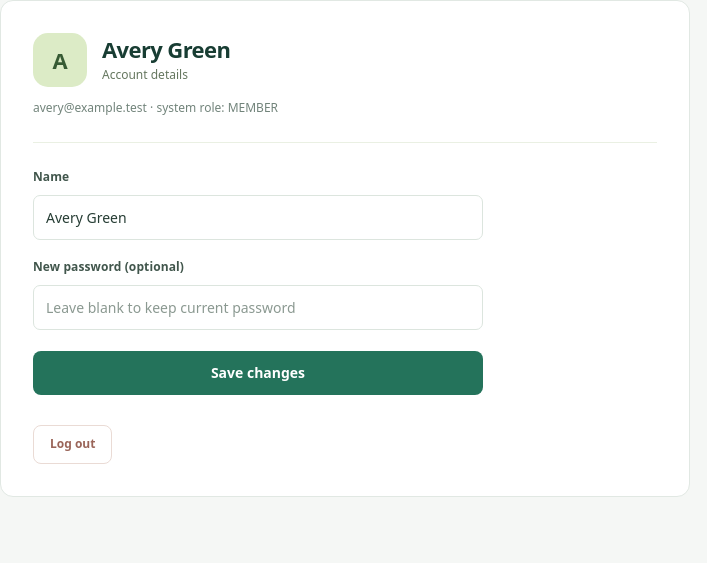
Test: ProfileView › saves a name without sending a blank optional password
Replace the text in the field labelled "Name" with "Updated" at {"x": 258, "y": 218}, box left=33, top=195, right=483, bottom=240
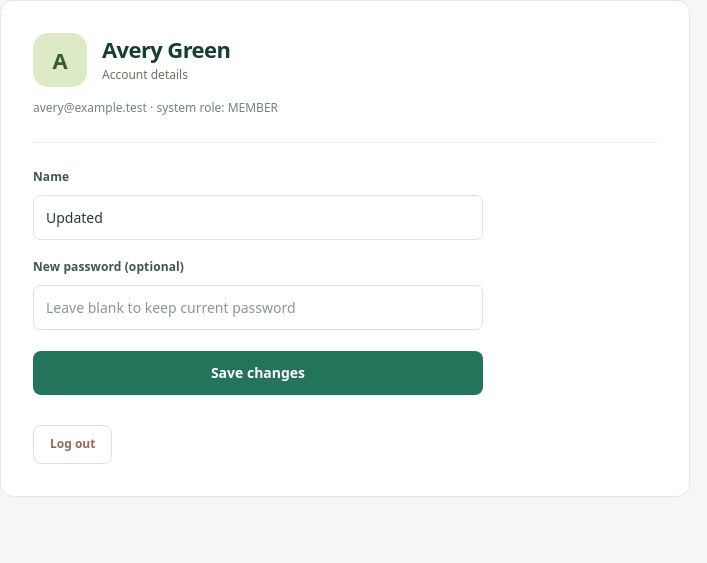
Click the button "Save changes" at {"x": 258, "y": 373}, box left=33, top=351, right=483, bottom=395
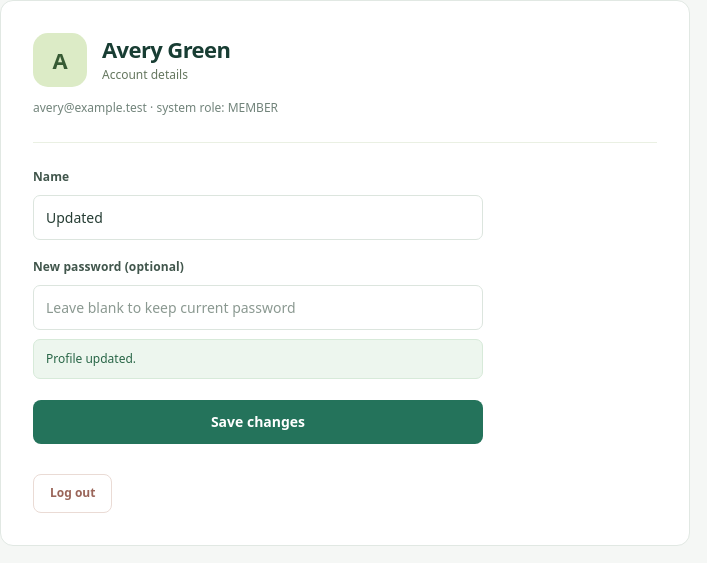
Check: the message reads "Profile updated.", box left=46, top=350, right=136, bottom=367
